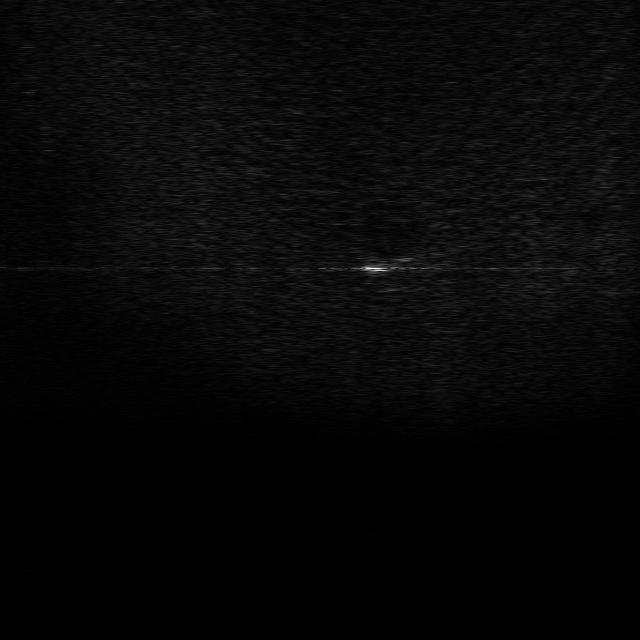plane: (356, 247, 422, 281)
